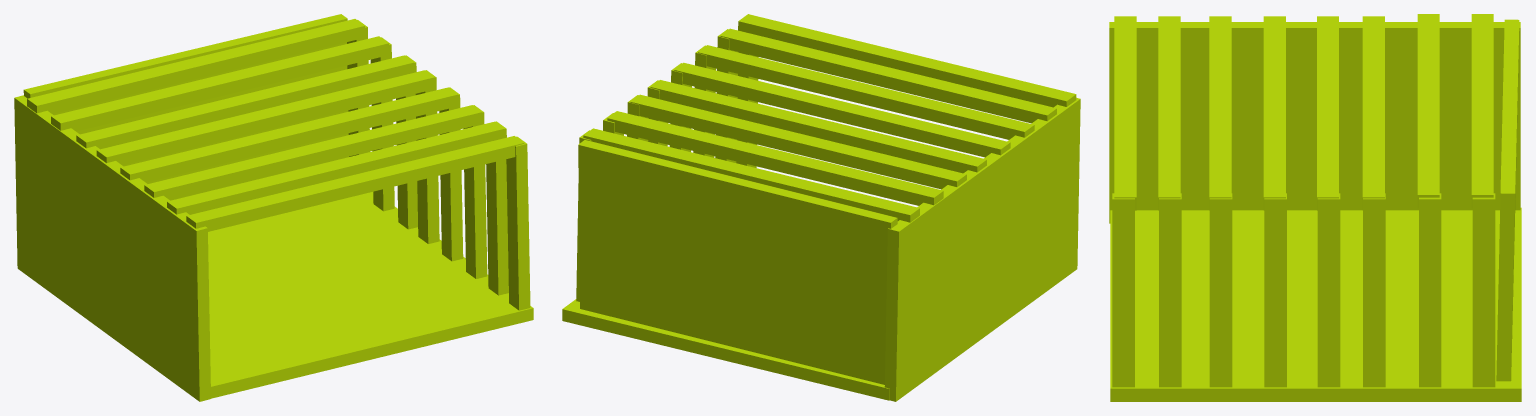
The model's file is VolumetricFog.gltf.
3 renders of one model, left to right at view 1: azimuth 30°, elevation 25°; view 2: azimuth 150°, elevation 25°; view 3: azimuth 270°, elevation 25°, orthographic. The views are drawn at different scales.
Visible parts, largest first — view 1: Cube.019; view 2: Cube.019; view 3: Cube.019.
Boxes of the visible parts, left/top/right/bottom form: Cube.019: left=14, top=14, right=533, bottom=401; Cube.019: left=562, top=14, right=1080, bottom=401; Cube.019: left=1109, top=14, right=1521, bottom=401.
Bounding box in the file's own units: 10.33 × 5.24 × 9.68.
